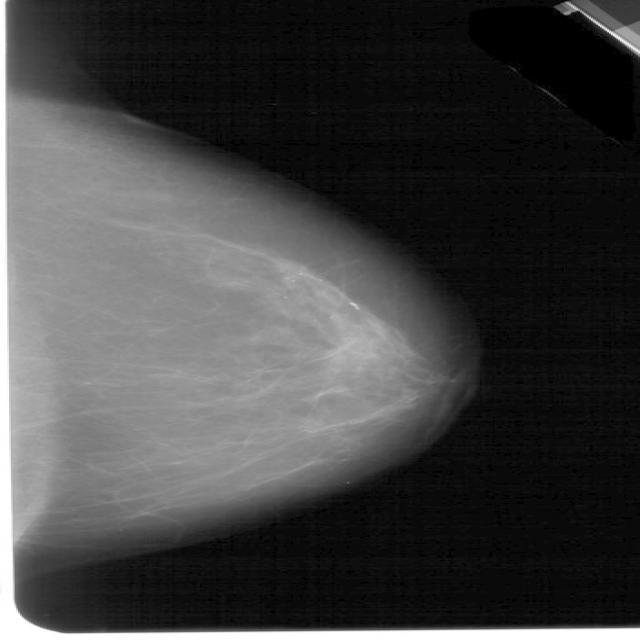tumour: (269, 254, 315, 281)
